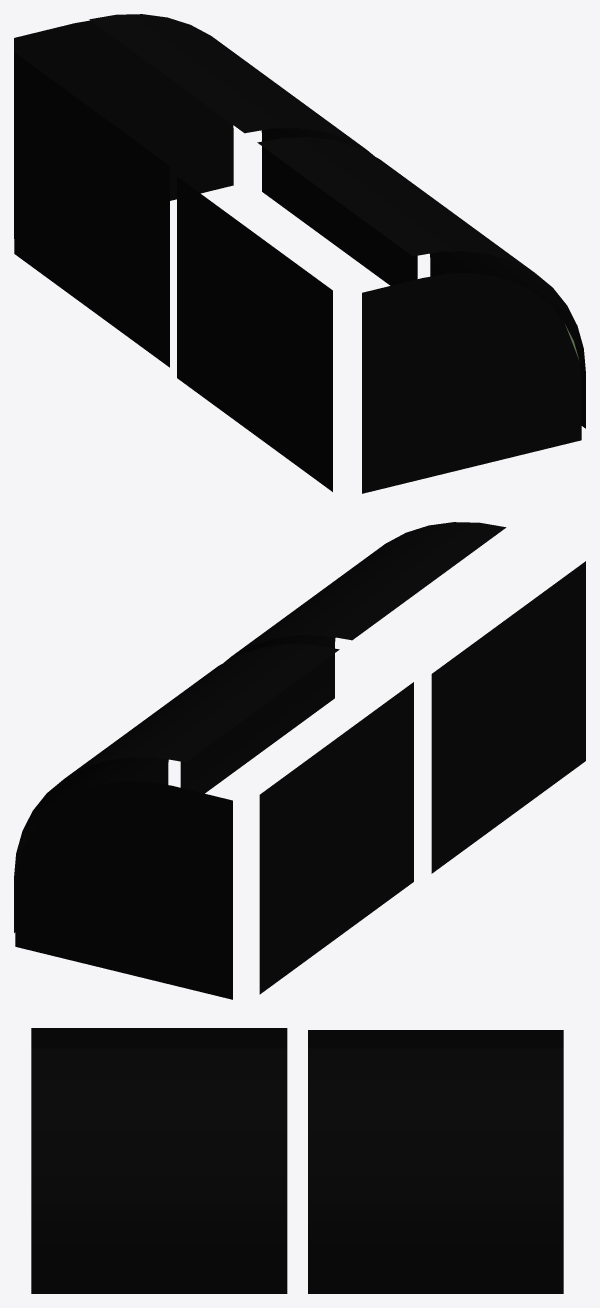
File: Vidrio.obj
3 renders of one model, top to bottom at view 1: azimuth 30°, elevation 25°; view 2: azimuth 150°, elevation 25°; view 3: azimuth 270°, elevation 25°, orthographic. The views are drawn at different scales.
Visible parts, largest first — view 1: polySurface31; view 2: polySurface31; view 3: polySurface31.
Boxes of the visible parts, x1=… form: polySurface31: x1=14, y1=14, x2=585, y2=493; polySurface31: x1=14, y1=522, x2=585, y2=999; polySurface31: x1=31, y1=1028, x2=563, y2=1293.
Bounding box in the file's own units: 1.21 × 0.9844 × 2.87.
Materials: 2 (1 with a texture image).
